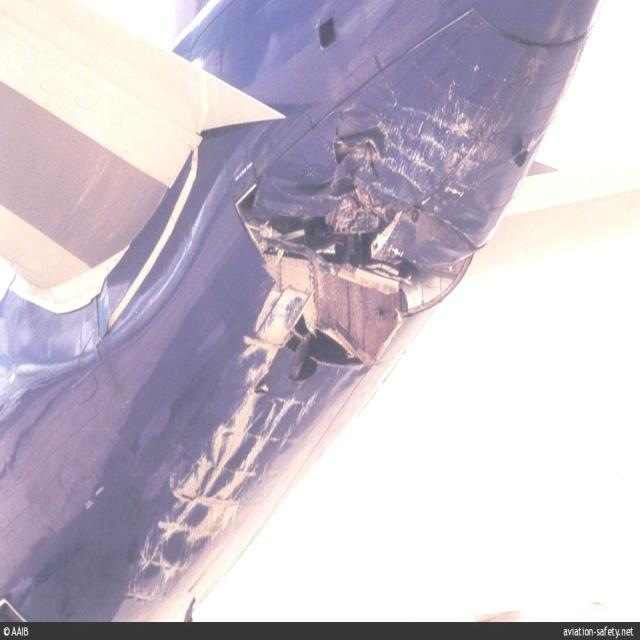crack: (234, 178, 422, 280)
